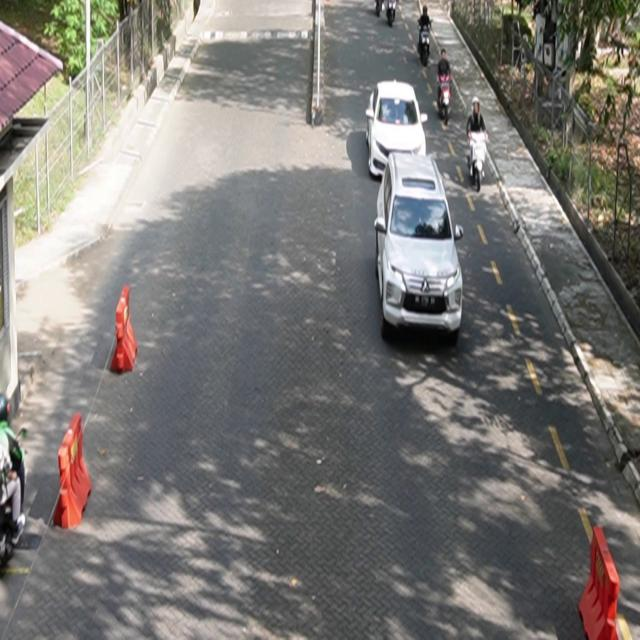car: (375, 151, 465, 342), (366, 79, 429, 181)
